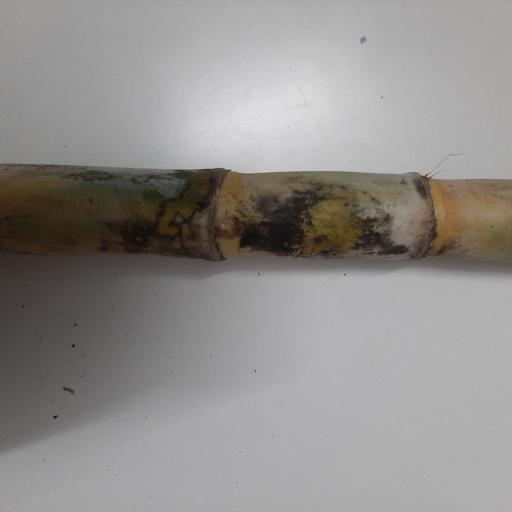Bud: (213, 218, 241, 239)
